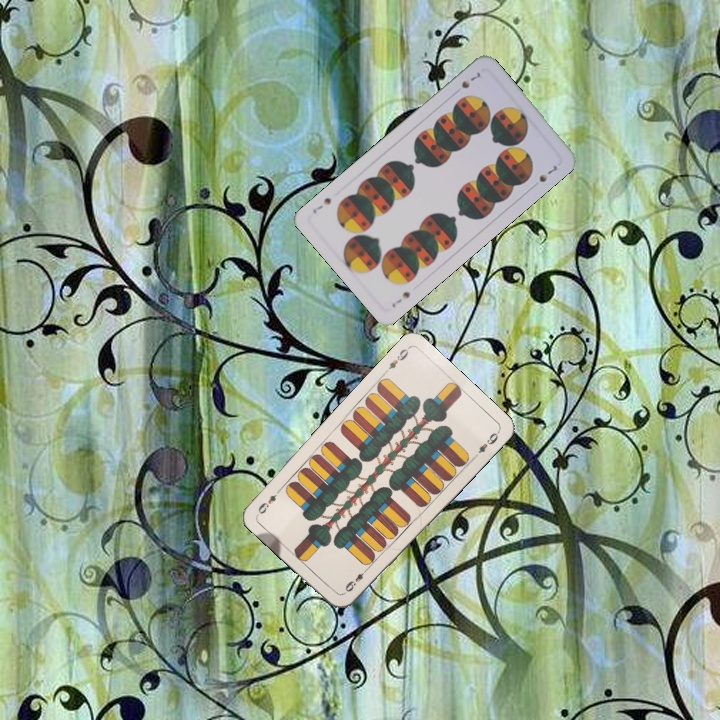E9: (340, 564, 372, 596), (380, 344, 412, 376)
S7: (457, 68, 483, 91), (388, 287, 413, 310)
